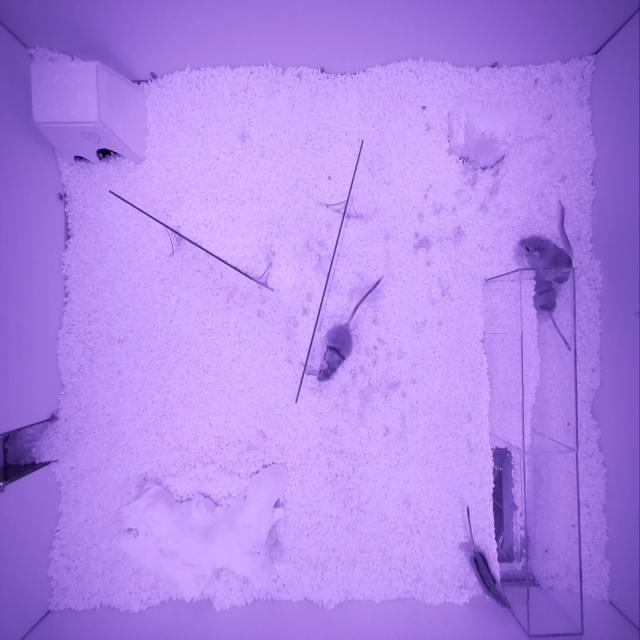adult_back: (518, 235, 572, 283)
adult_front: (316, 324, 353, 382)
pup_h_stripe: (532, 275, 557, 315)
pup_v_stripe: (464, 542, 513, 610)
